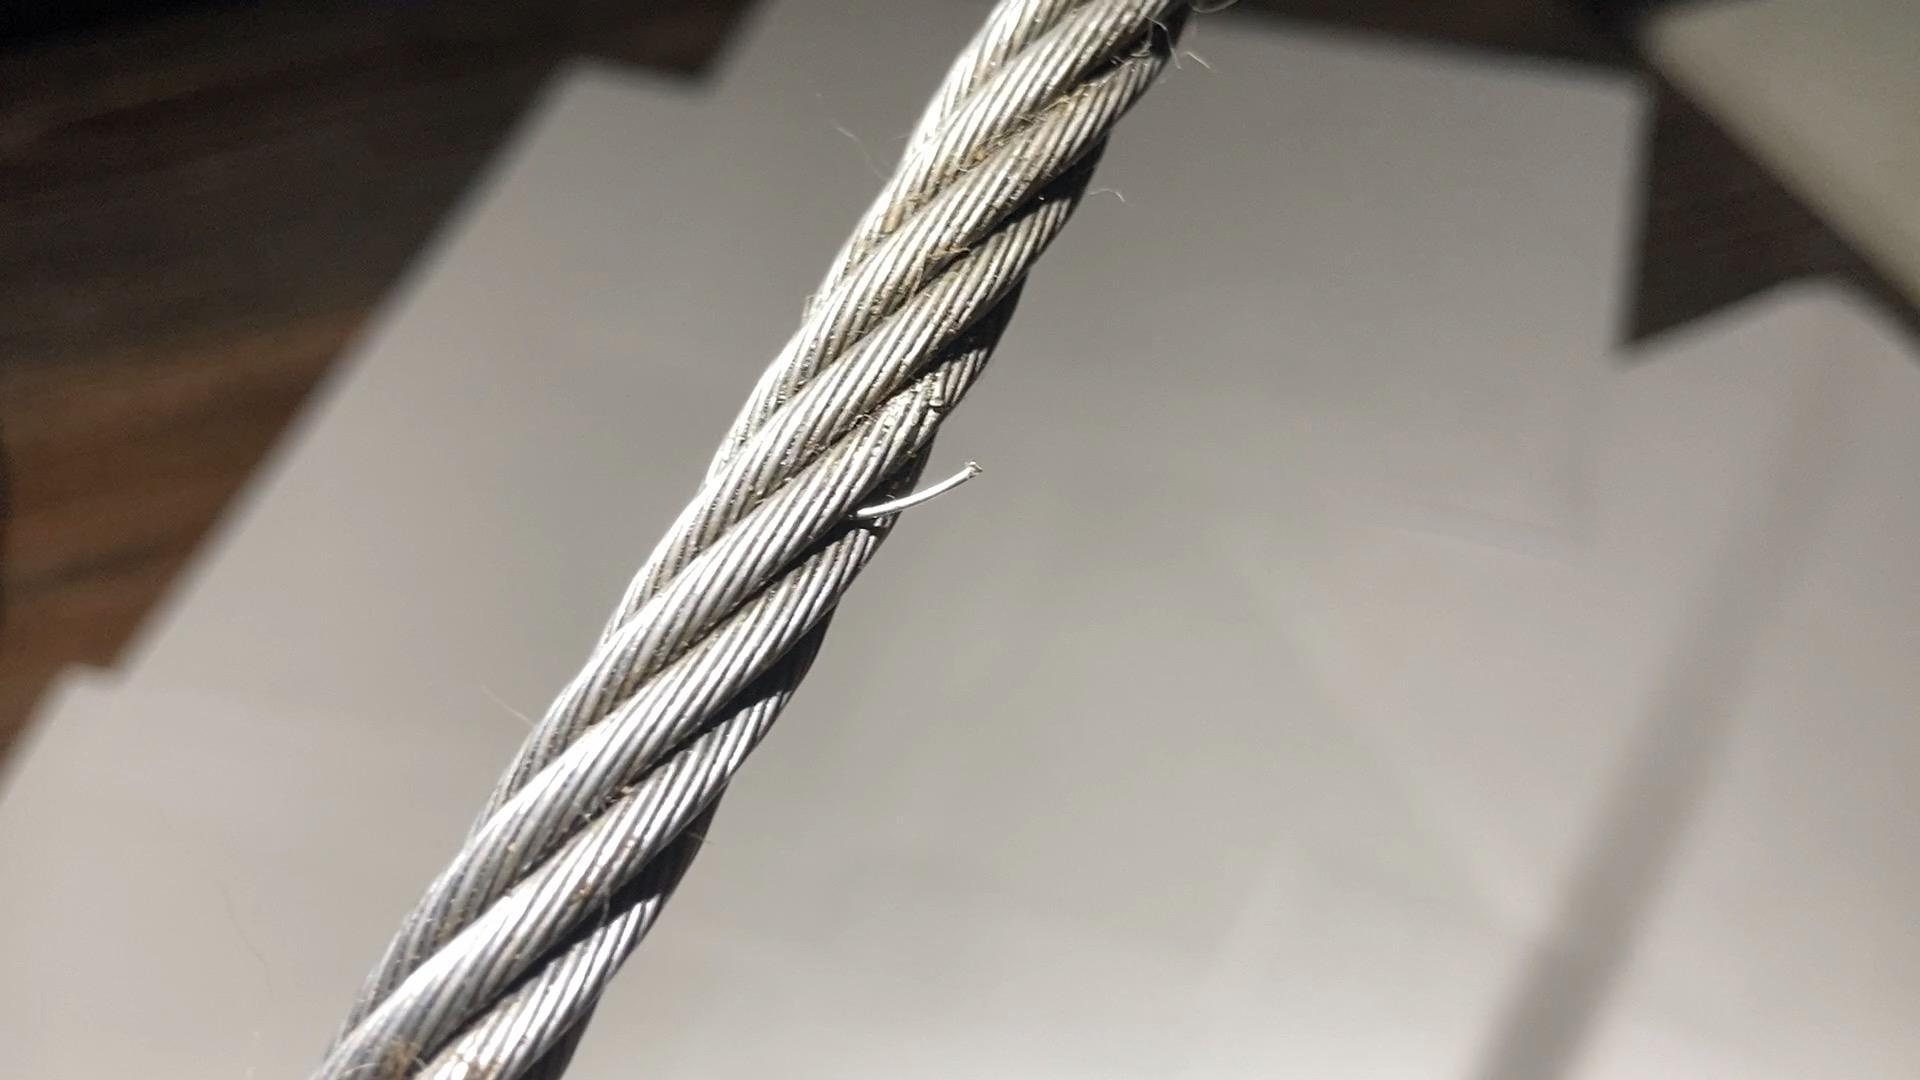break: (835, 440, 994, 556)
